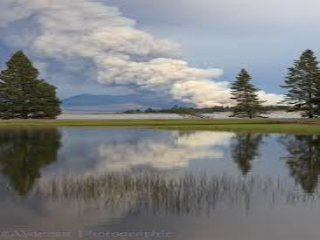smoke: (42, 5, 291, 106)
